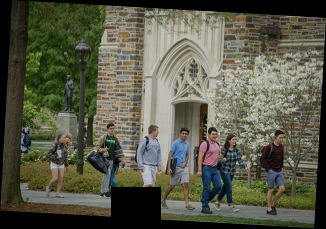without_mask: (229, 136, 238, 146), (276, 134, 285, 144), (209, 131, 218, 140), (181, 131, 189, 141), (154, 127, 160, 137), (109, 126, 115, 135), (61, 135, 67, 143)
